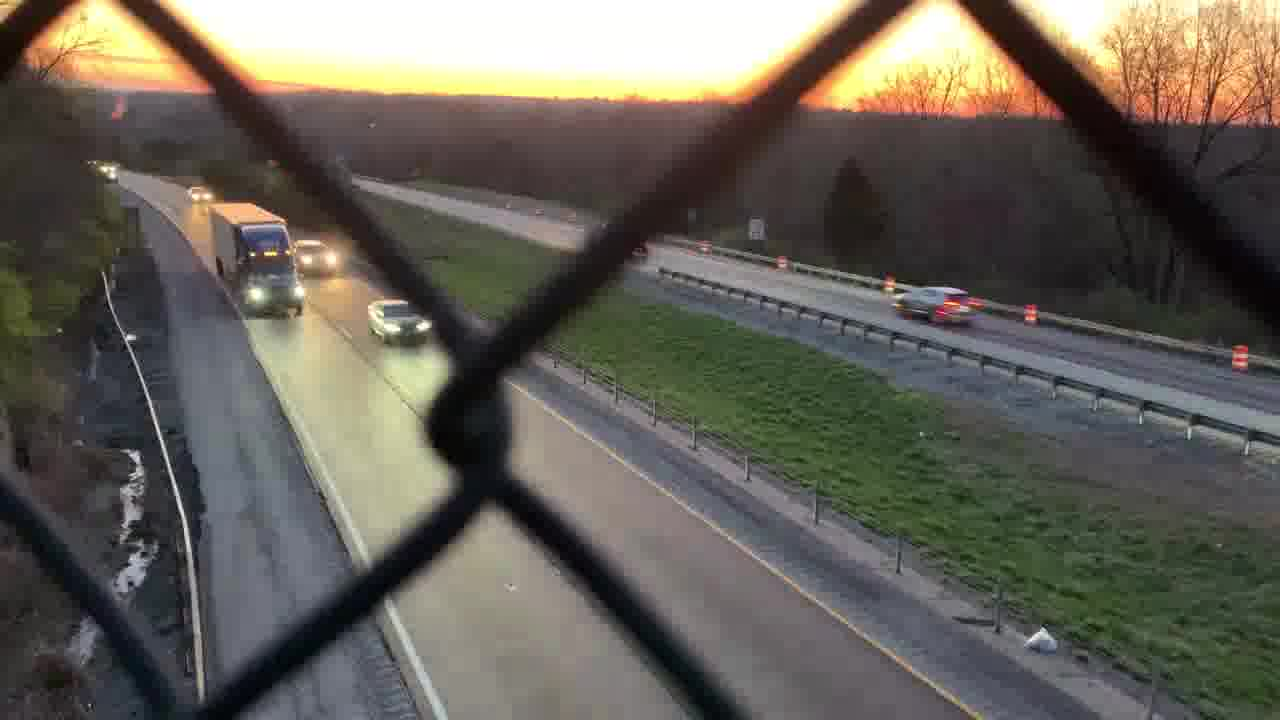heavyTruck: (206, 198, 301, 317)
largeCar: (894, 283, 977, 328)
smallCar: (366, 297, 434, 345)
